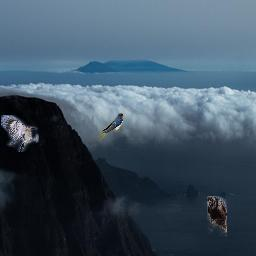Crow: (207, 196, 227, 236)
Swallow: (98, 113, 124, 140)
Woodpecker: (1, 115, 39, 152)
